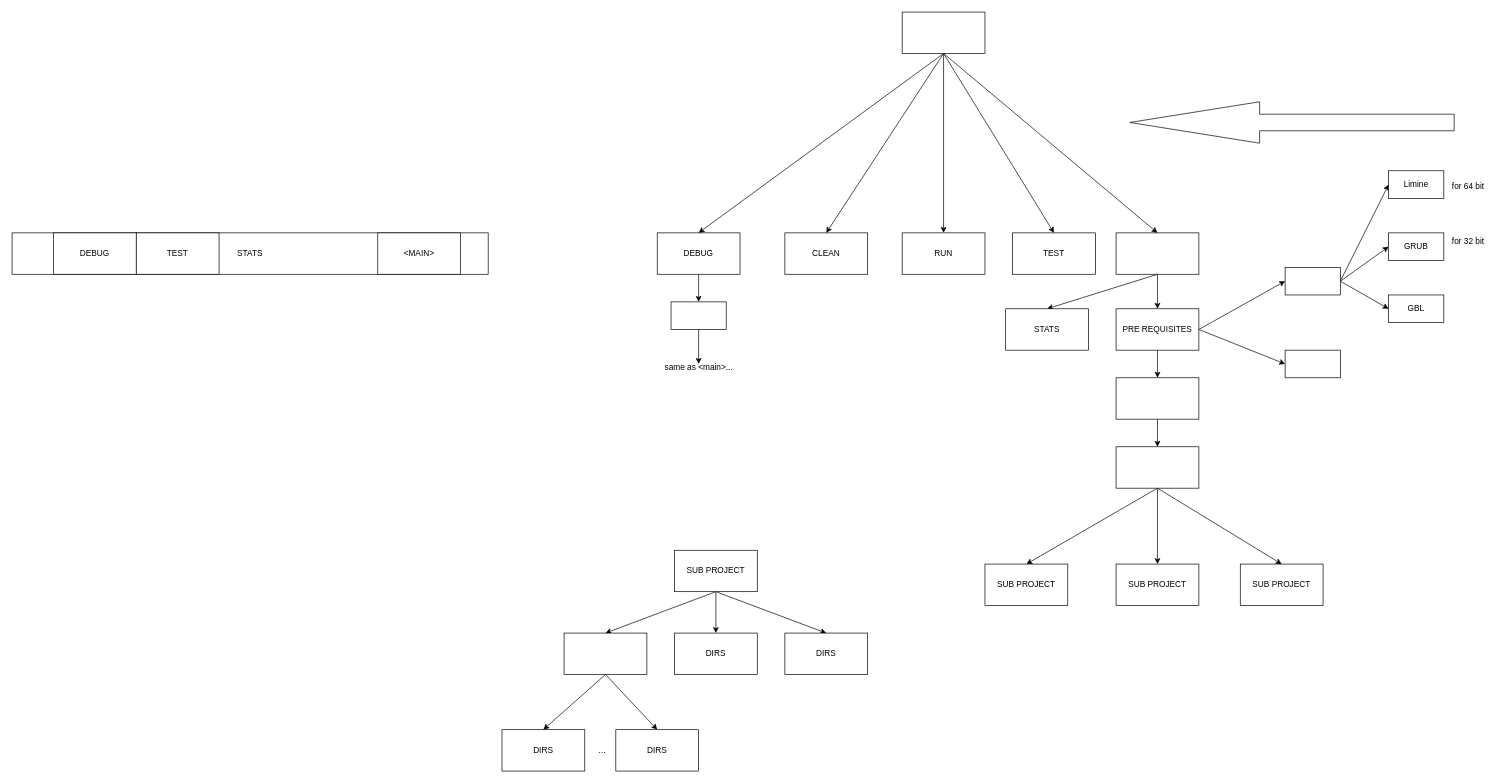
The diagram is 1504 pixels wide and 783 high, and some of its shapes have lost their labels. The shapes that lost their labels are listed below. From the top down, each one's centre as x and y in pixels, then its label:
(x=943, y=32): MAKE
(x=1291, y=122): TIME
(x=1157, y=253): GeckOS
(x=1312, y=281): Bootloader
(x=698, y=315): Extra Flags
(x=1312, y=363): 3rd Party Libs
(x=1157, y=398): GET INCLUDES
(x=1157, y=467): BUILD
(x=605, y=653): DIRS - SUB PROJECT
